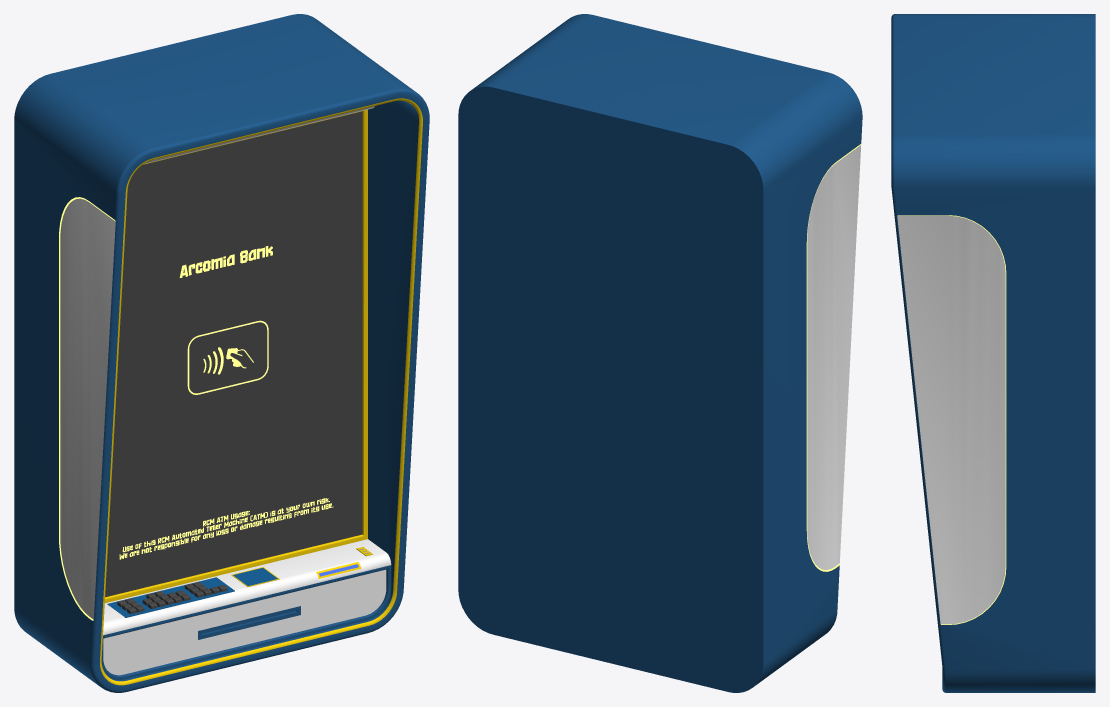
The model's file is ATM_Revised_HP.fbx.
3 renders of one model, left to right at view 1: azimuth 30°, elevation 25°; view 2: azimuth 150°, elevation 25°; view 3: azimuth 270°, elevation 25°, orthographic. The views are drawn at different scales.
Parts seen in each view (by area): view 1: Boole, ATM_1, Keys; view 2: Boole; view 3: Boole.
Boxes of the visible parts, left/top/right/bottom form: Boole: left=14, top=14, right=429, bottom=692; ATM_1: left=119, top=246, right=333, bottom=559; Keys: left=107, top=577, right=234, bottom=617; Boole: left=458, top=14, right=862, bottom=692; Boole: left=891, top=14, right=1095, bottom=692.
Size of the model in its own units: 70 by 120 by 40.
